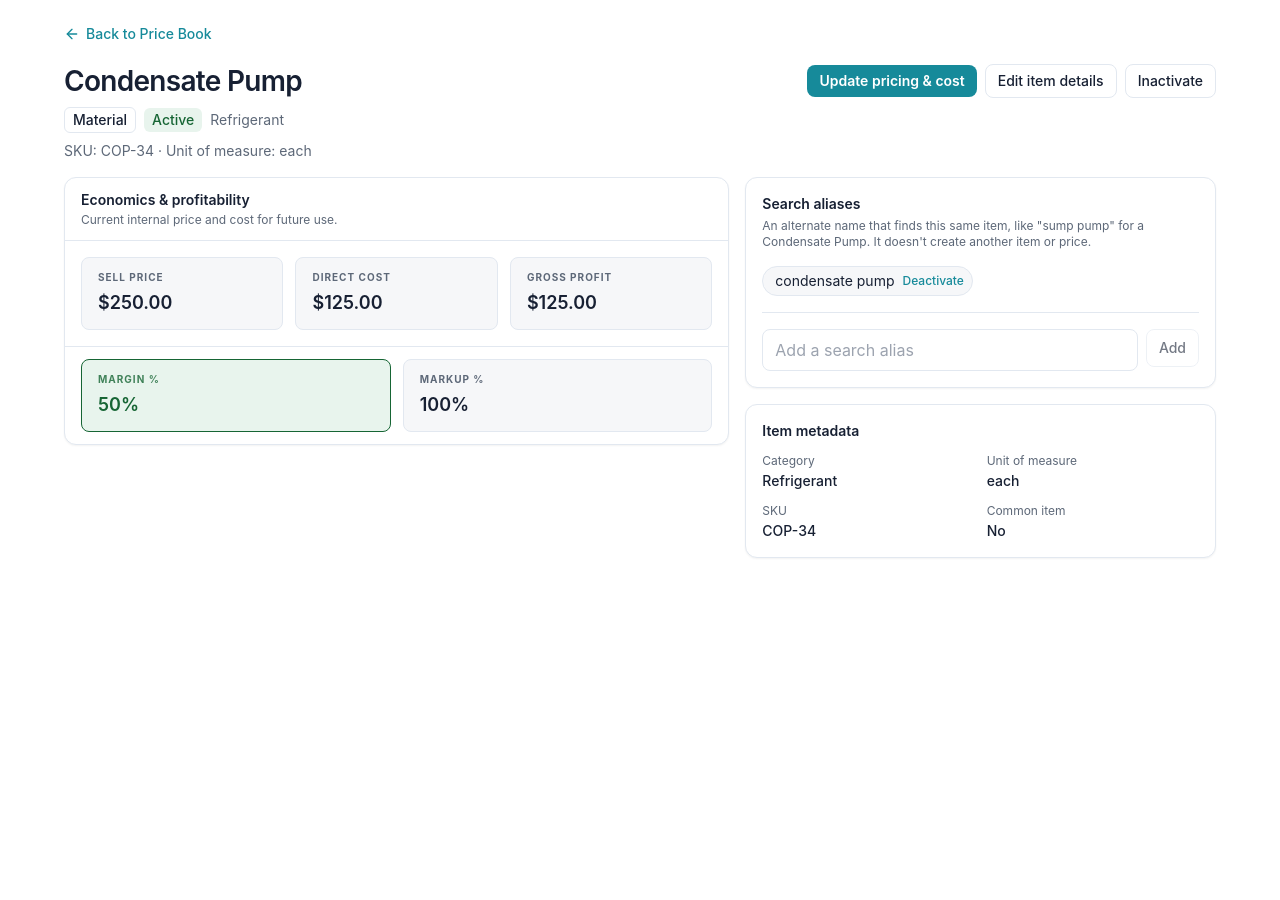
CatalogItemDetail › keeps the item detail visible behind the identity edit drawer
Expected: the heading "Condensate Pump" is shown, x1=64 y1=64 x2=312 y2=99
Click the button "Edit item details".
click(1051, 81)  # box x1=985 y1=64 x2=1117 y2=98
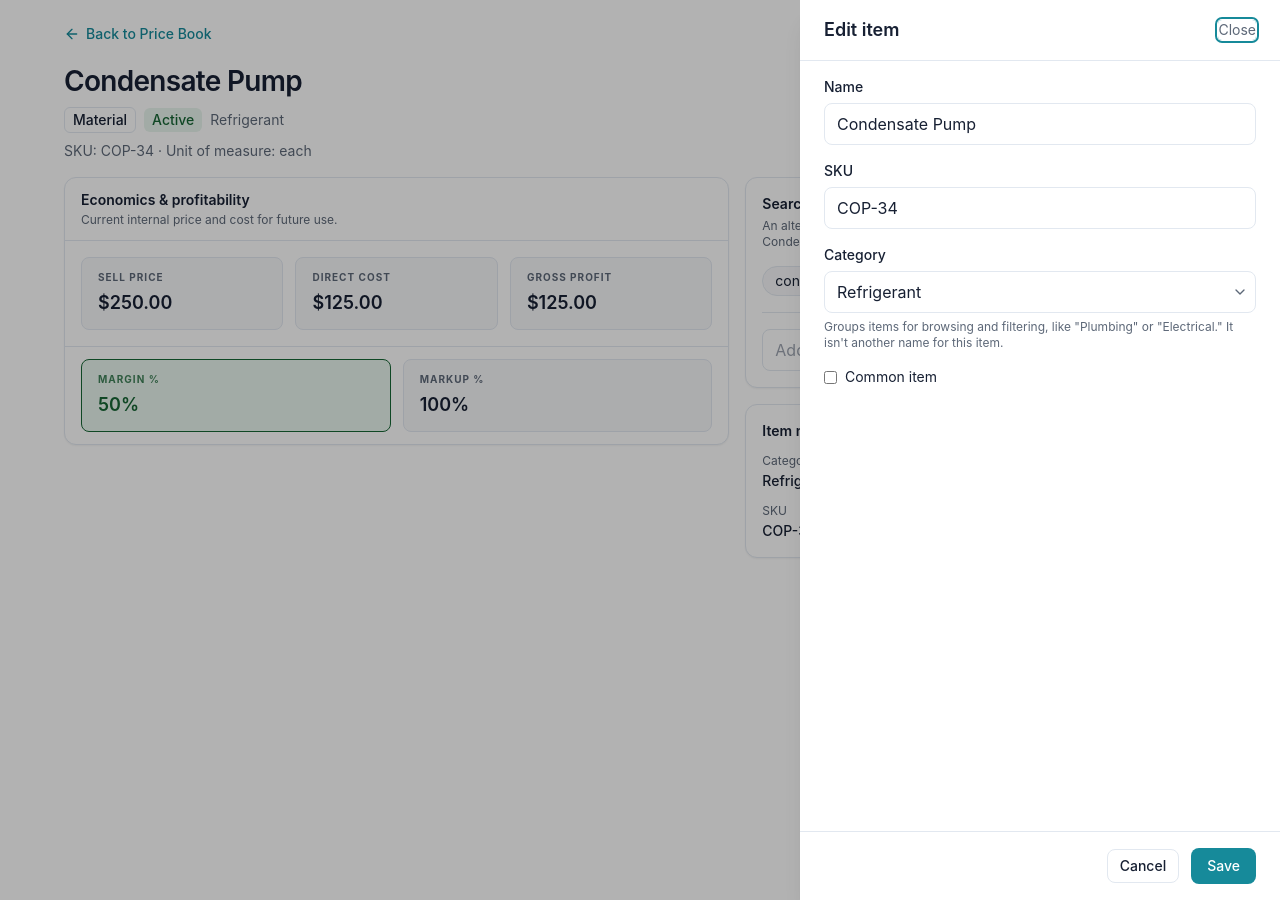
Expected: the heading "Economics & profitability" is shown, x1=81 y1=191 x2=250 y2=208
Expected: the dialog "Edit item" is shown, x1=800 y1=0 x2=1279 y2=899
